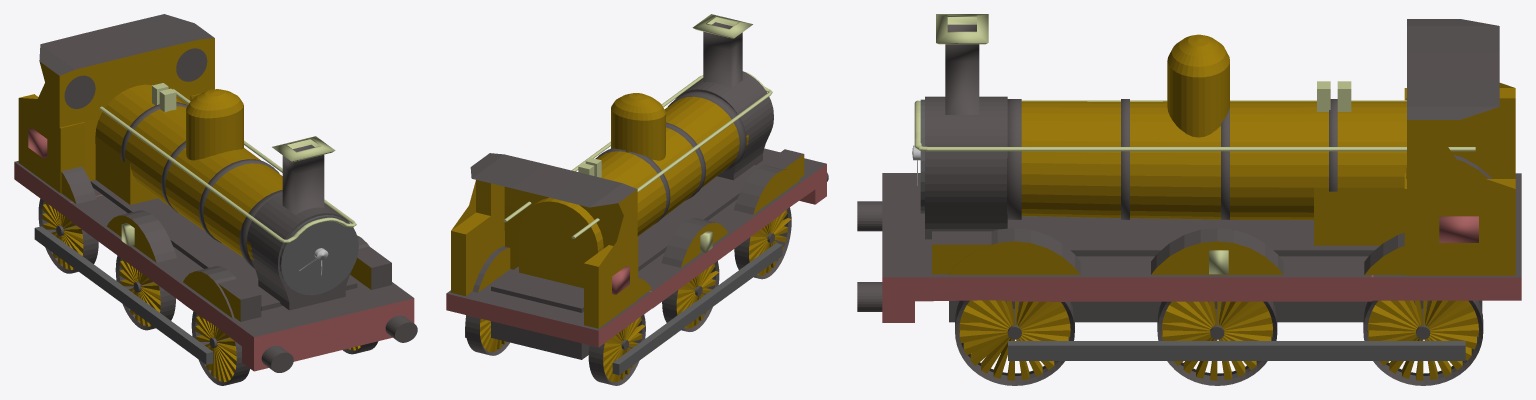
Rendered from lbscr-c.dae.
3 views of the same model, side by side, from view 1: azimuth 30°, elevation 25°; view 2: azimuth 150°, elevation 25°; view 3: azimuth 270°, elevation 25° (orthographic). The views are drawn at different scales.
Parts seen in each view (by area): view 1: Cube_006, Cube_003, Cylinder_019, Cube_007, Cylinder_020, Cube_004, Cylinder_017, Cube_009, Cylinder_013, Cube_001, Cylinder_015, Cylinder_018 (+9 smaller); view 2: Cube_006, Cylinder_019, Cube_003, Cube_004, Cylinder_013, Cylinder_020, Cylinder_017, Cylinder_012, Cube_009, Cube_001, Cylinder_015, Cylinder_018 (+6 smaller); view 3: Cylinder_019, Cube_003, Cube_006, Cube_004, Cylinder_020, Cube_009, Cylinder_013, Cylinder_015, Cylinder_012, Cylinder_008, Cylinder_017, Cylinder_018 (+6 smaller).
Part boxes in pixels (x1,y1,x2,y2): Cube_006: [18, 14, 214, 193]; Cube_003: [14, 161, 417, 372]; Cylinder_019: [95, 84, 282, 260]; Cube_007: [279, 215, 358, 295]; Cylinder_020: [247, 193, 354, 310]; Cube_004: [90, 180, 357, 310]; Cylinder_017: [186, 89, 243, 160]; Cube_009: [34, 226, 213, 364]; Cylinder_013: [107, 210, 369, 318]; Cube_001: [272, 136, 335, 214]; Cylinder_015: [191, 311, 378, 385]; Cylinder_018: [120, 102, 282, 268]; Cube_006: [451, 153, 638, 328]; Cylinder_019: [519, 96, 748, 288]; Cube_003: [446, 148, 828, 347]; Cube_004: [491, 165, 760, 359]; Cylinder_013: [661, 165, 800, 267]; Cylinder_020: [675, 71, 773, 180]; Cylinder_017: [611, 93, 665, 160]; Cylinder_012: [465, 314, 645, 385]; Cube_009: [465, 243, 782, 375]; Cube_001: [692, 14, 752, 88]; Cylinder_015: [734, 207, 791, 279]; Cylinder_018: [595, 91, 746, 224]; Cylinder_019: [1021, 101, 1406, 245]; Cube_003: [857, 173, 1521, 322]; Cube_006: [1404, 19, 1515, 275]; Cube_004: [949, 216, 1482, 322]; Cylinder_020: [925, 96, 1007, 239]; Cube_009: [1008, 341, 1465, 360]; Cylinder_013: [948, 228, 1283, 274]; Cylinder_015: [955, 300, 1074, 385]; Cylinder_012: [1363, 300, 1483, 385]; Cylinder_008: [1157, 301, 1277, 385]; Cylinder_017: [1167, 34, 1229, 137]; Cylinder_018: [1007, 99, 1337, 219].
Size of the model in its own units: 2.03 by 5.34 by 2.78.
